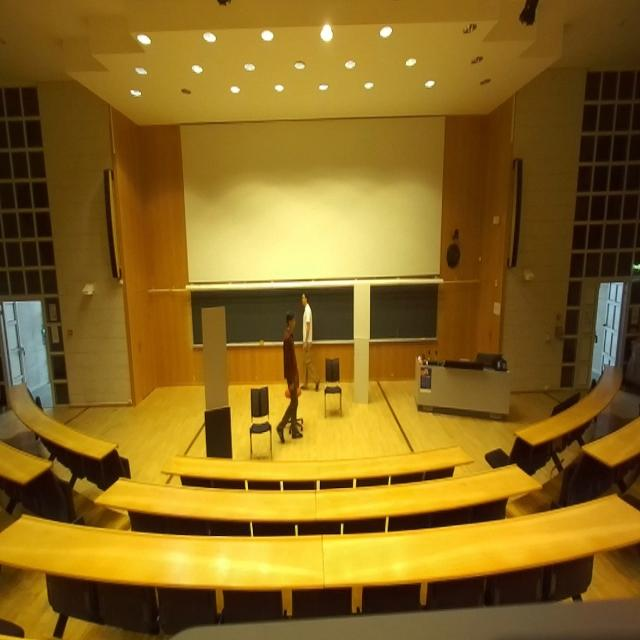person: (276, 311, 303, 444), (300, 292, 320, 391)
